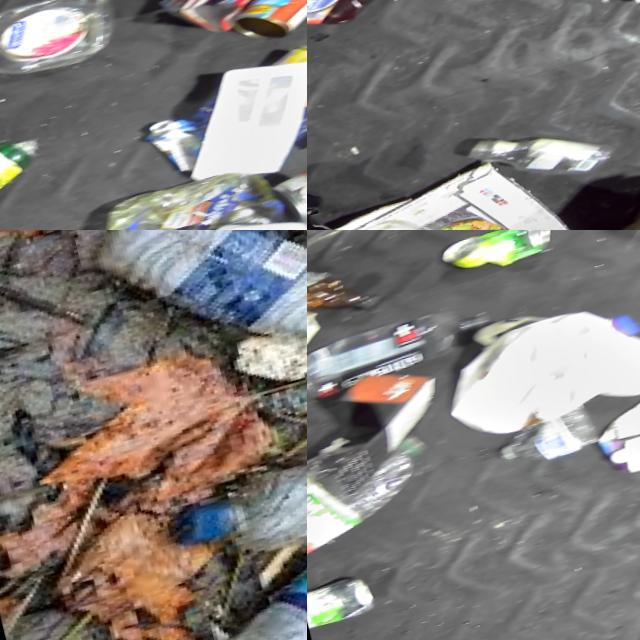can: (444, 230, 566, 280), (228, 0, 307, 53), (307, 571, 375, 629), (263, 162, 307, 230)
milk_jug: (434, 292, 640, 447)
plastic_bottle: (85, 230, 307, 419), (178, 409, 307, 588), (125, 517, 307, 640), (307, 426, 450, 558), (465, 105, 627, 206), (310, 301, 494, 386), (0, 0, 125, 100), (485, 397, 620, 473)
